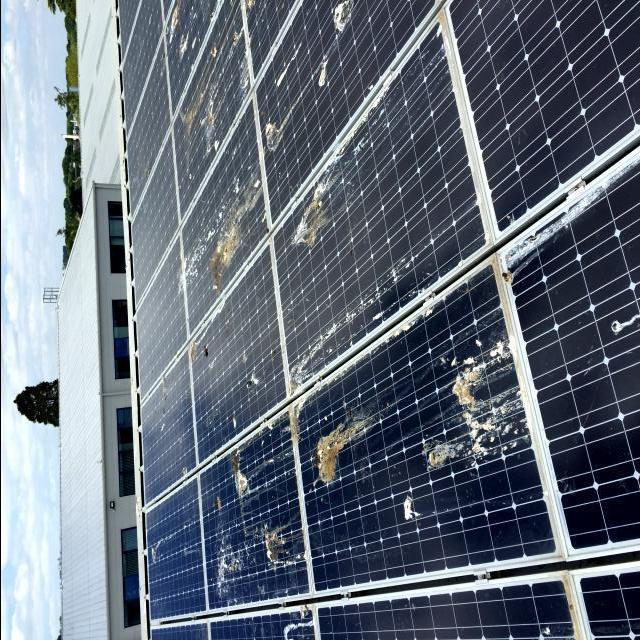soiled: (133, 0, 582, 635)
